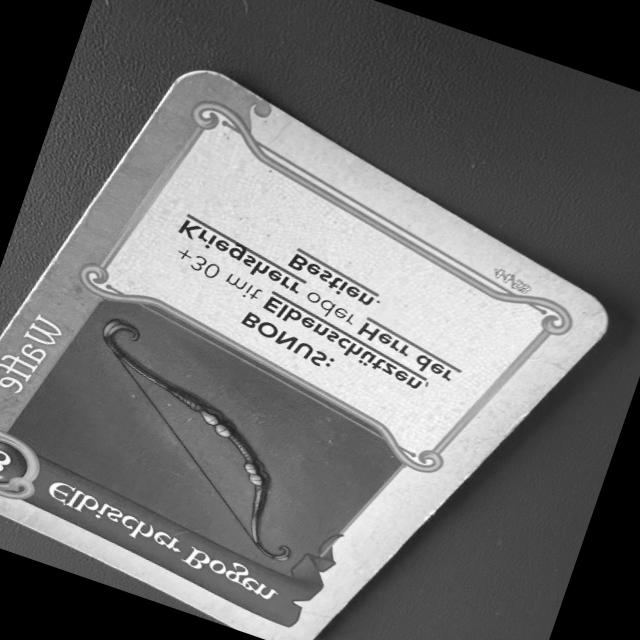Elven Longbow: (0, 54, 623, 640)
